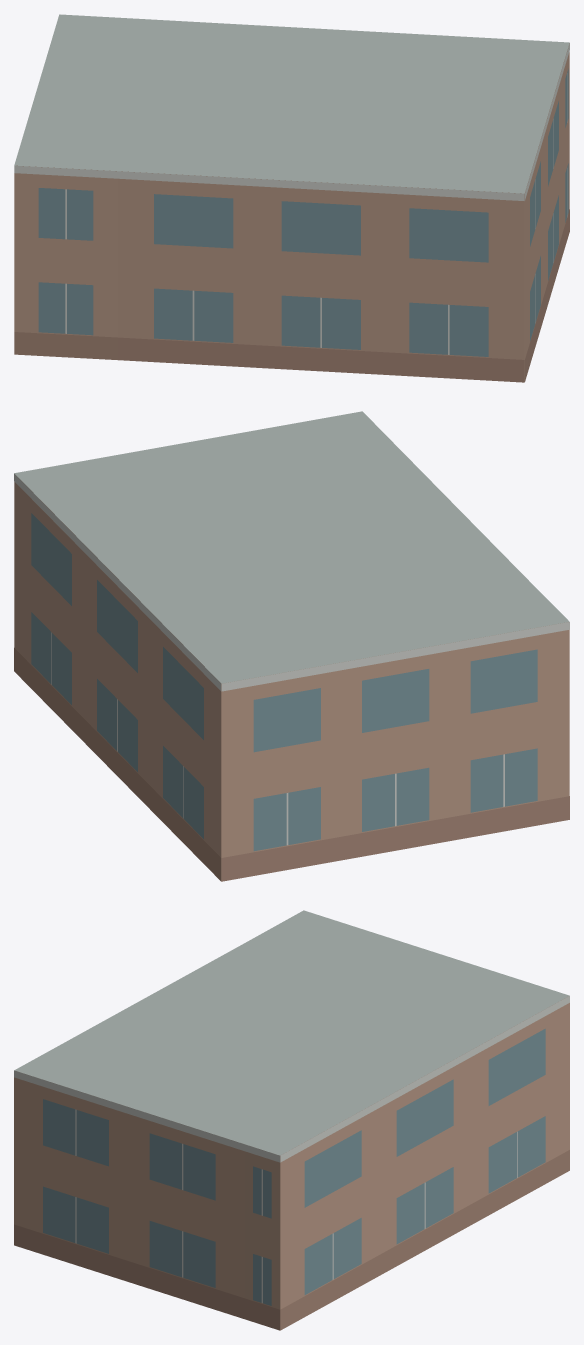
The model's file is survey-upis-32803834.glb.
The picture shows the model from 3 angles, top to bottom: view 1: azimuth 30°, elevation 25°; view 2: azimuth 150°, elevation 25°; view 3: azimuth 270°, elevation 25°; orthographic projection. The views are drawn at different scales.
Parts seen in each view (by area): view 1: survey-upis-32803834.tmp; view 2: survey-upis-32803834.tmp; view 3: survey-upis-32803834.tmp.
Part boxes in pixels (x1,y1,x2,y2): survey-upis-32803834.tmp: (14,14,569,382); survey-upis-32803834.tmp: (14,411,569,881); survey-upis-32803834.tmp: (14,910,569,1330).
Bounding box in the file's own units: 18.36 × 6.1 × 17.57.
